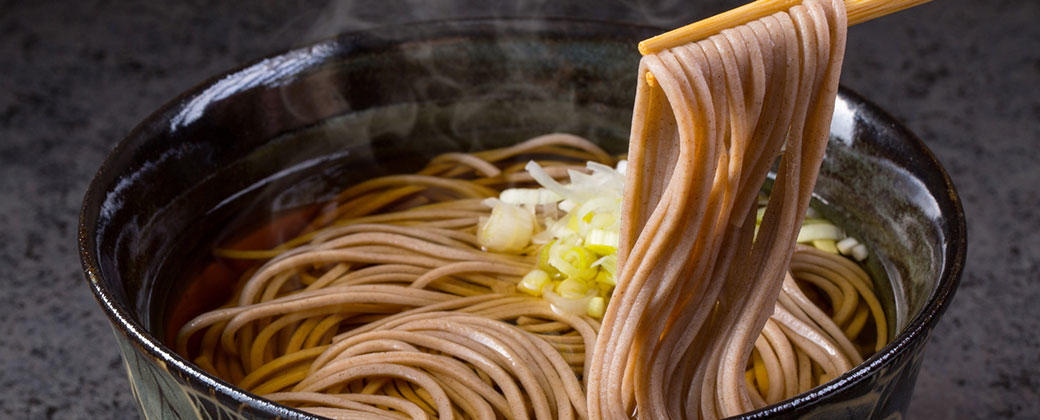Soba: (220, 15, 874, 417)
